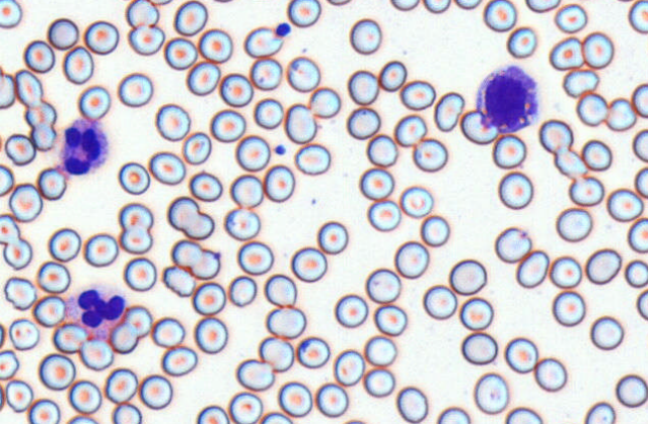GRAN: (69, 286, 129, 337), (59, 118, 111, 176)
MONO: (476, 66, 544, 131)
PLT: (275, 22, 292, 37), (274, 143, 287, 156)
RBC: (473, 372, 509, 414), (448, 258, 486, 295), (38, 353, 75, 390), (494, 226, 531, 263), (265, 306, 306, 339), (290, 246, 327, 282), (155, 103, 190, 141), (498, 171, 533, 209), (394, 240, 429, 278), (515, 249, 549, 288), (258, 336, 294, 372), (585, 248, 621, 284), (365, 267, 401, 303), (555, 207, 592, 242), (235, 134, 270, 171), (8, 183, 42, 221), (235, 358, 274, 391), (284, 103, 316, 143), (277, 381, 312, 417), (117, 72, 153, 107), (606, 188, 643, 222), (460, 331, 497, 365), (194, 316, 228, 353), (538, 118, 573, 153), (412, 137, 447, 172), (422, 284, 457, 319), (504, 337, 538, 373), (149, 151, 185, 185), (104, 367, 138, 403), (173, 0, 207, 36), (237, 241, 273, 275), (286, 56, 320, 92), (263, 164, 295, 202), (63, 45, 94, 84), (68, 379, 102, 414), (84, 232, 118, 267), (549, 36, 584, 70), (334, 293, 368, 328), (590, 315, 624, 350), (84, 20, 119, 54), (219, 72, 253, 107), (198, 28, 232, 63), (210, 109, 246, 142), (552, 290, 585, 326), (396, 386, 428, 423), (186, 61, 220, 95), (3, 276, 37, 310), (263, 273, 297, 307), (492, 134, 526, 168), (459, 296, 493, 330), (192, 281, 226, 315), (48, 227, 81, 262), (139, 374, 172, 409), (315, 382, 348, 417), (359, 167, 394, 200), (294, 143, 330, 175), (224, 208, 260, 240), (349, 18, 381, 54), (347, 69, 379, 105), (333, 349, 364, 386), (582, 31, 613, 68), (123, 257, 156, 291), (534, 357, 567, 391), (399, 185, 433, 218), (230, 174, 263, 208), (346, 106, 380, 139), (78, 85, 110, 120), (568, 175, 604, 206), (161, 345, 197, 376), (128, 24, 164, 55), (399, 79, 435, 110), (393, 114, 426, 147), (549, 255, 582, 288), (164, 37, 197, 70), (167, 196, 199, 230), (23, 39, 55, 73), (615, 373, 647, 407), (228, 391, 262, 423), (296, 336, 330, 368), (367, 199, 401, 231), (576, 91, 607, 126), (562, 68, 599, 97), (14, 69, 43, 106), (162, 265, 195, 297), (250, 57, 282, 90), (37, 261, 70, 293), (47, 17, 79, 50), (374, 304, 407, 336), (118, 161, 150, 194), (366, 133, 398, 166), (79, 339, 113, 370), (151, 316, 185, 347), (317, 220, 348, 254), (4, 133, 36, 165), (33, 295, 65, 327), (308, 86, 340, 118), (364, 335, 397, 366), (483, 0, 516, 31), (53, 323, 87, 353), (606, 97, 636, 131), (118, 202, 153, 231), (581, 139, 612, 171), (8, 318, 39, 350), (554, 148, 587, 178), (2, 237, 32, 270), (554, 3, 587, 33), (189, 171, 222, 201), (363, 367, 395, 397), (506, 26, 536, 58), (253, 97, 283, 129), (37, 167, 66, 200), (182, 131, 211, 164), (125, 0, 159, 28), (171, 239, 202, 269), (420, 214, 449, 246), (378, 59, 407, 91), (5, 379, 33, 412), (287, 0, 321, 27), (183, 211, 214, 240), (191, 248, 220, 279), (228, 275, 257, 306), (120, 226, 152, 254), (124, 305, 152, 337), (110, 322, 138, 353), (24, 100, 56, 127), (28, 398, 60, 423), (30, 122, 56, 151), (627, 217, 647, 253), (584, 401, 615, 423), (624, 259, 647, 288), (111, 402, 142, 423), (505, 406, 542, 423), (196, 404, 229, 423), (628, 0, 647, 33), (0, 0, 22, 28), (0, 214, 20, 244), (436, 406, 470, 423), (0, 349, 19, 379), (631, 82, 647, 117), (0, 72, 15, 109), (632, 128, 647, 162), (0, 164, 14, 196), (525, 0, 560, 12), (634, 166, 647, 198), (259, 411, 293, 423), (423, 0, 450, 13), (636, 289, 647, 320), (390, 0, 419, 11), (66, 415, 98, 423), (454, 0, 481, 9), (0, 383, 5, 411), (0, 322, 5, 348), (326, 0, 351, 5), (342, 418, 366, 423), (148, 0, 172, 5), (212, 0, 234, 3), (614, 0, 634, 2)
Schistocyte: (460, 110, 499, 145), (435, 90, 464, 135), (244, 27, 284, 57)
